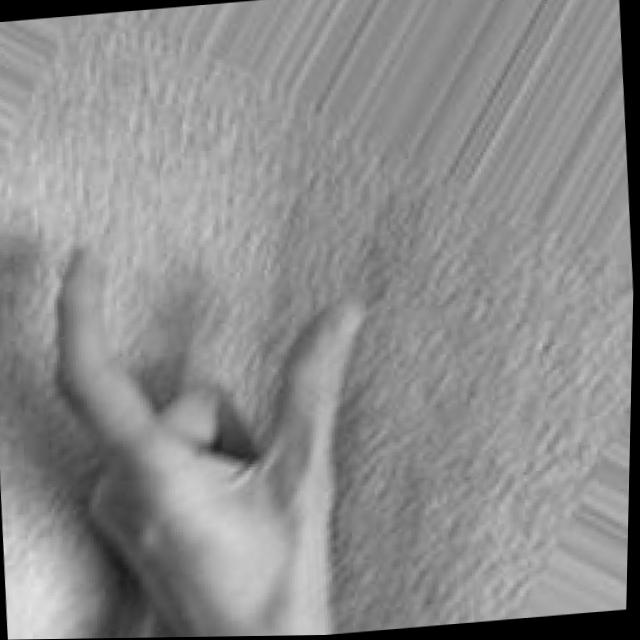U: (27, 209, 409, 639)
